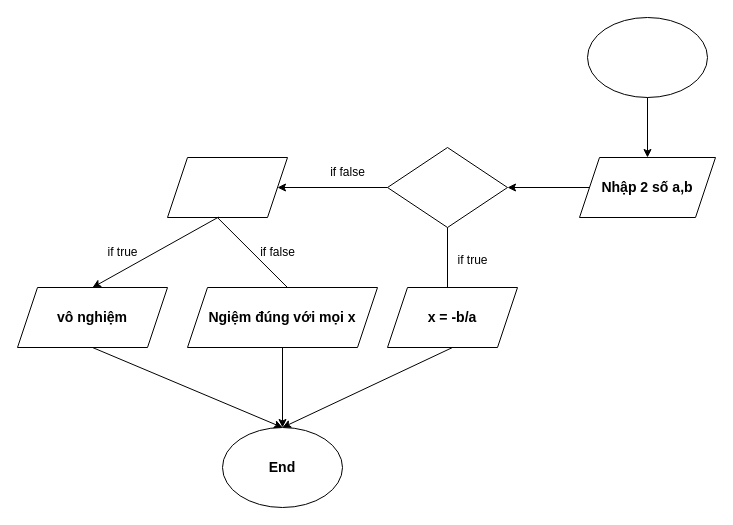
The diagram is 733 pixels wide and 525 high, and some of its shapes have lost their labels. Each missing label, with the box of its shape:
a! = 0: (386, 146, 508, 228)
b! = 0: (166, 156, 288, 218)
Start: (586, 16, 708, 98)
